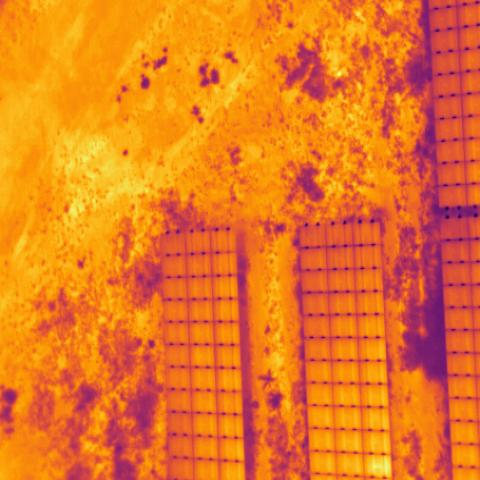fault: (370, 456, 392, 477)
